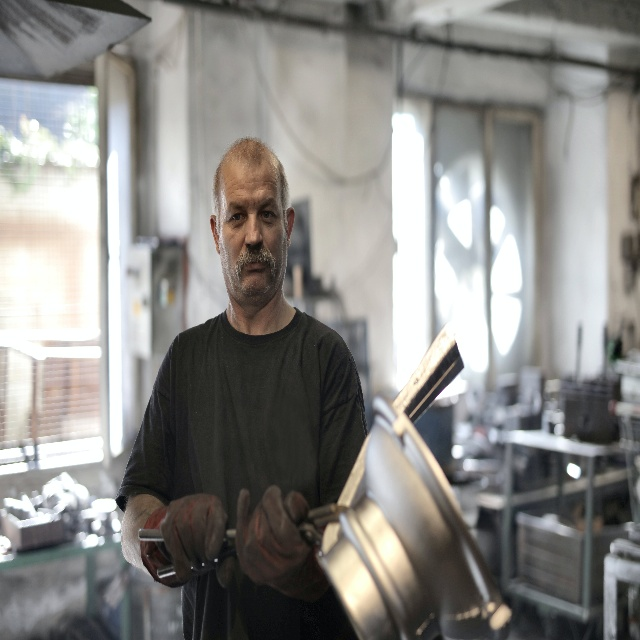Guantes: (236, 486, 329, 602), (139, 492, 235, 588)
